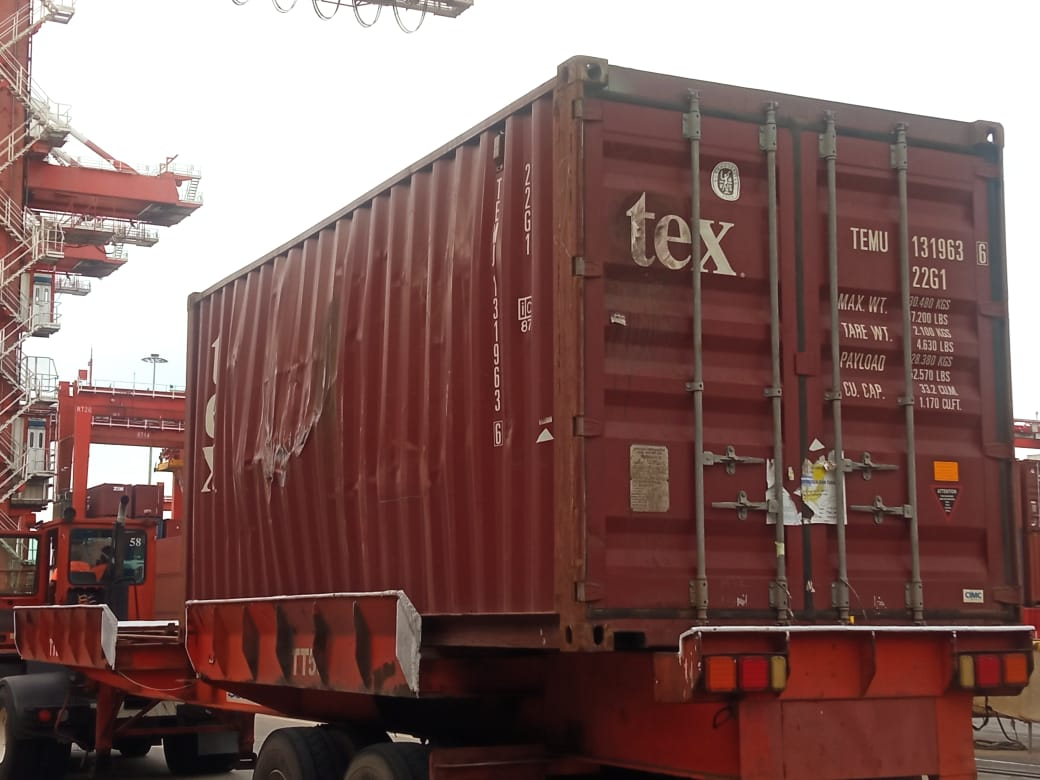moderate: (218, 296, 376, 512)
